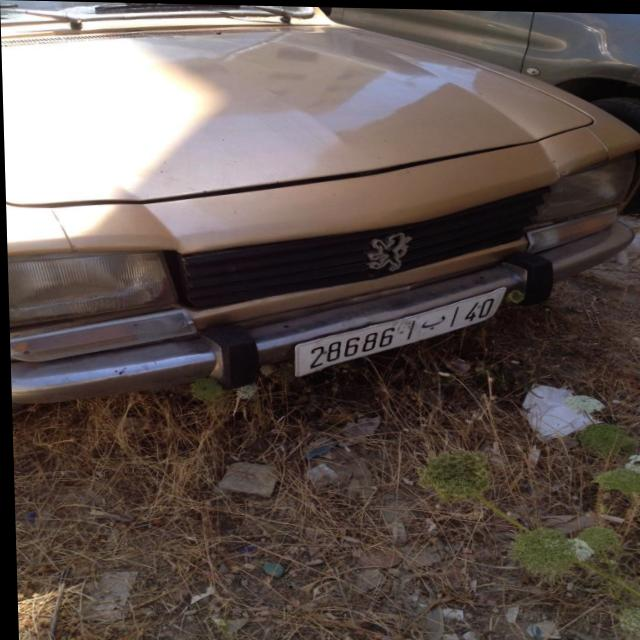License-Plate: (293, 286, 503, 374)
